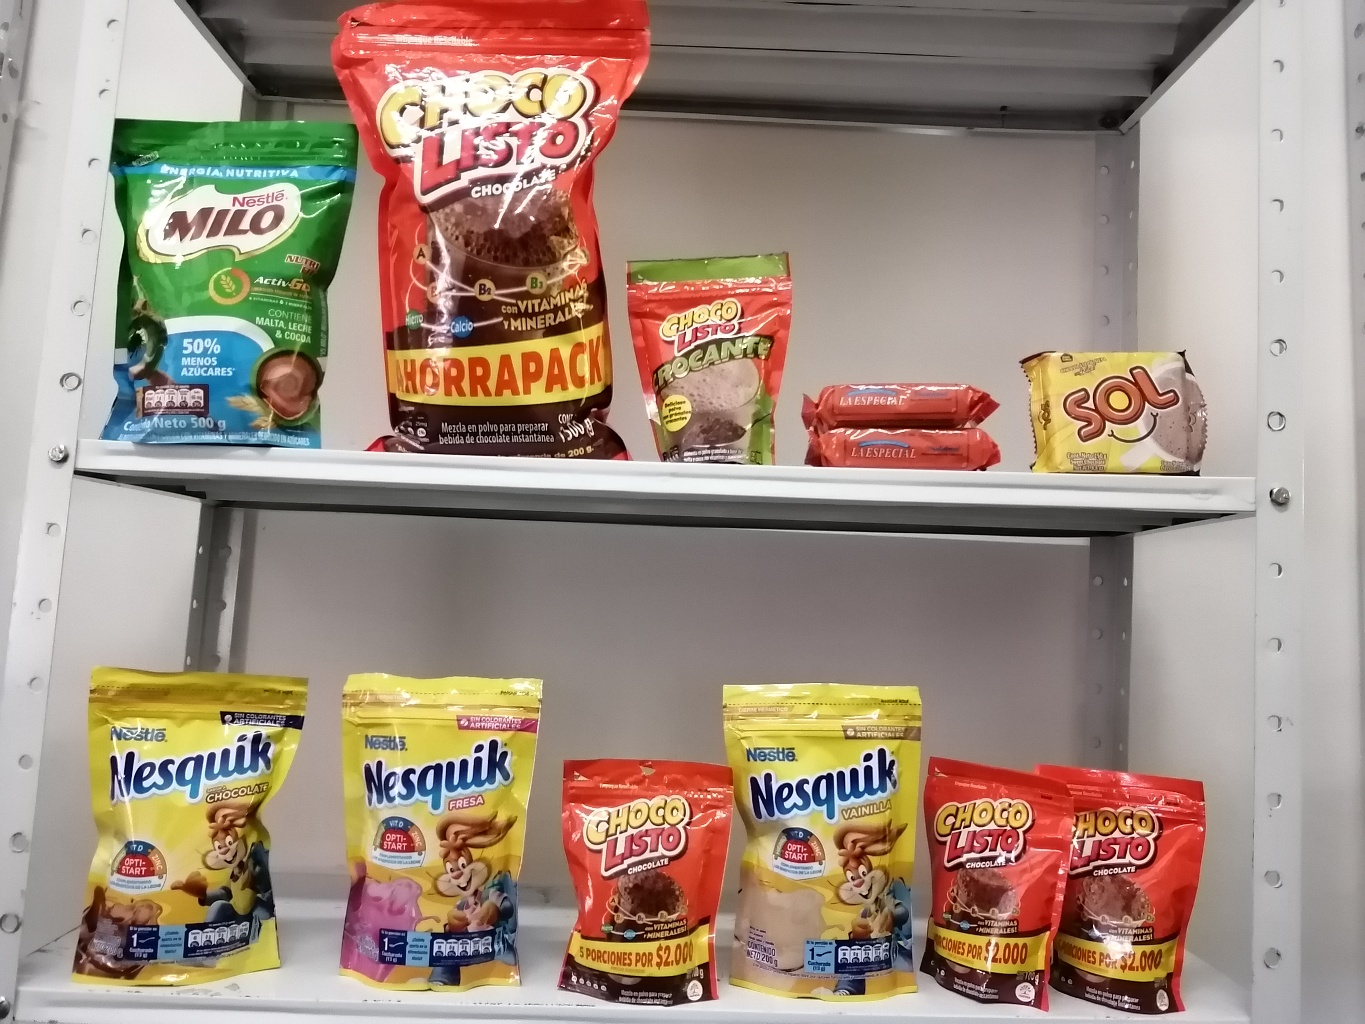COL0170102DYP10000: (627, 256, 797, 467)
COL0170103DYP1,500: (338, 3, 646, 461)
COL0170205DYP50000: (111, 114, 357, 445)
COL0170303DYP20000: (84, 660, 299, 989)
COL0170305DYP20000: (338, 670, 546, 992)
COL0170306DYP20000: (724, 683, 925, 1002)
